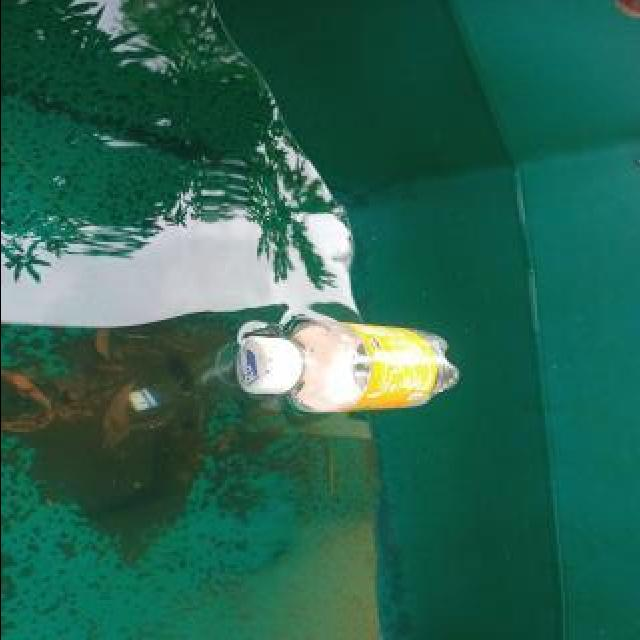Bottle: (230, 314, 468, 419)
